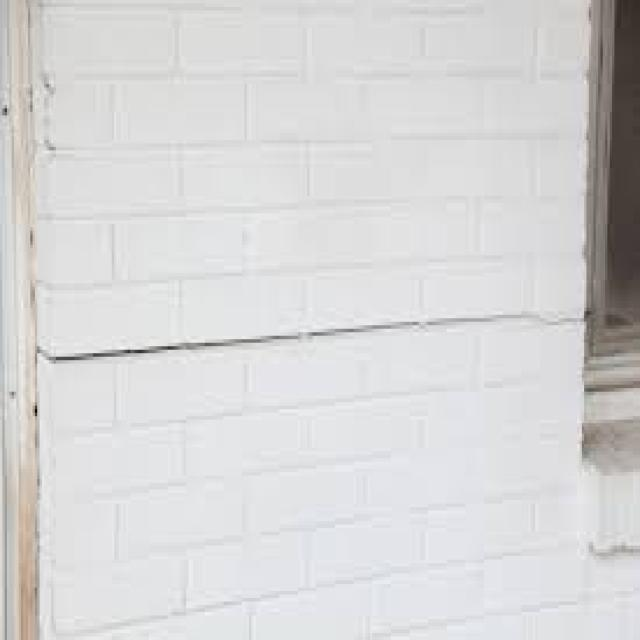Crack: (35, 304, 582, 364)
